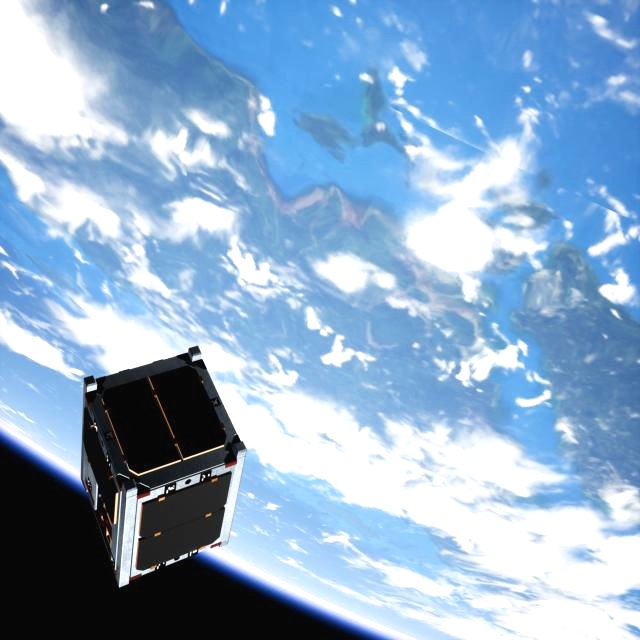satellite: (77, 340, 246, 588)
